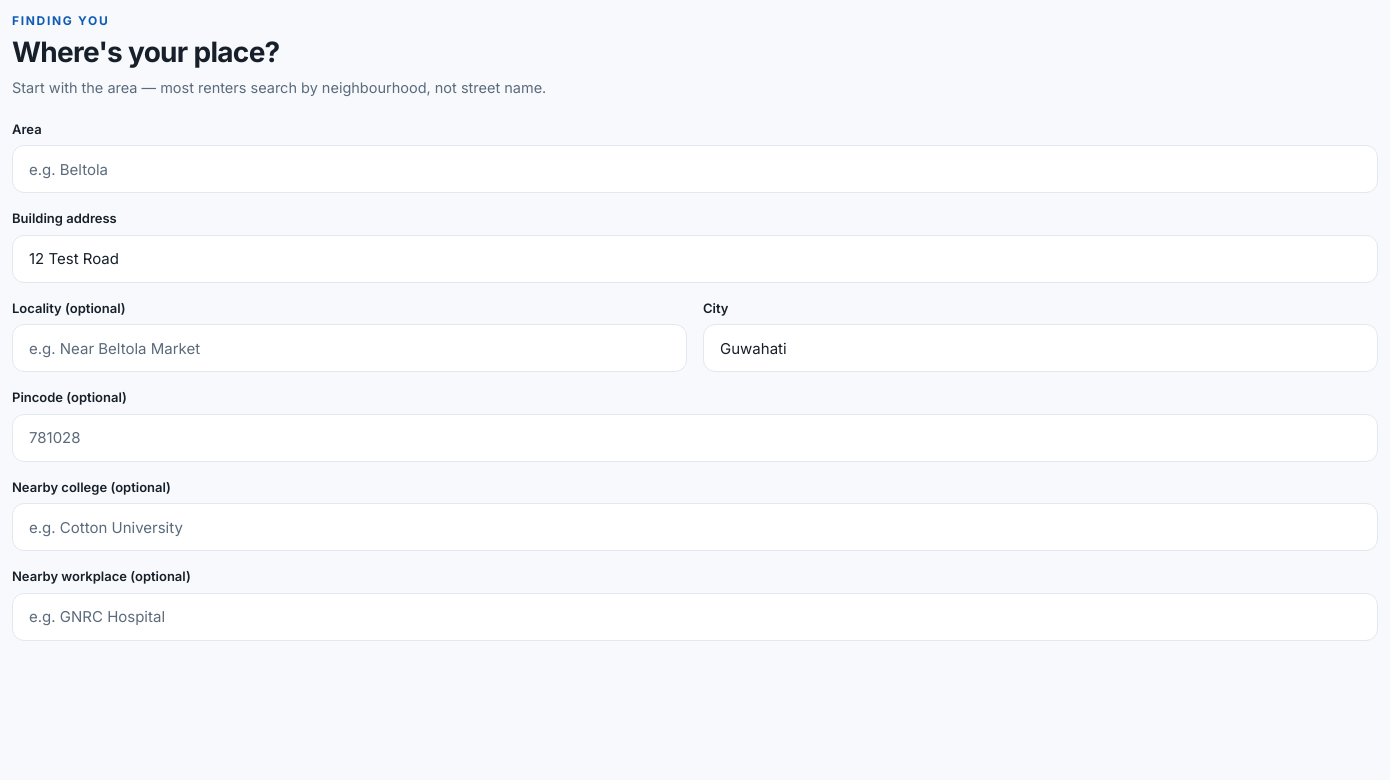
WhereChapter custom area fallback › does not offer the fallback for college/workplace fields
This screenshot has width=1390, height=780.
Note: College search with no matches: no "Use ..." button anywhere.
Type "Xyz" into the field with placeholder "e.g. Cotton University". click: (695, 527)
box: [12, 503, 1378, 551]
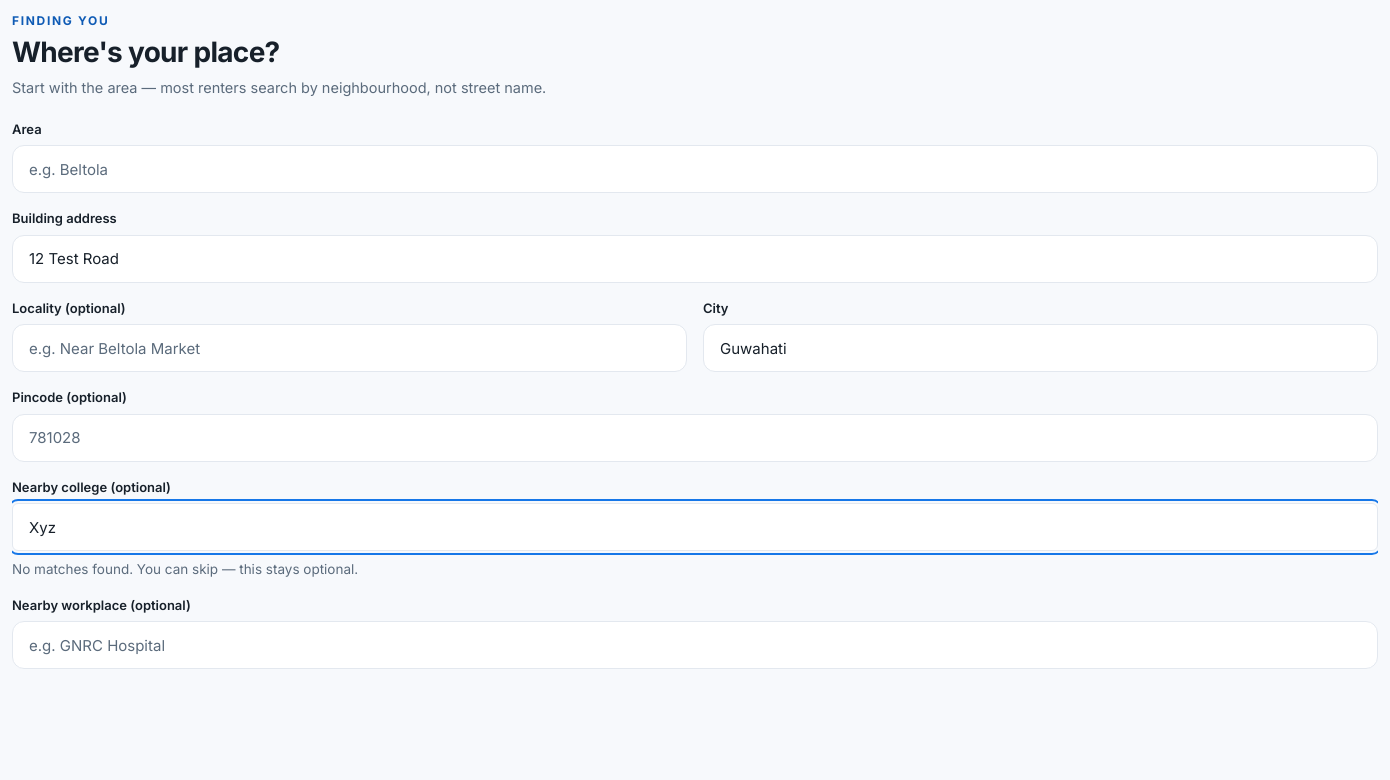
Now the text "No matches found. You can skip — this stays optional." is shown, box [12, 561, 358, 577]
